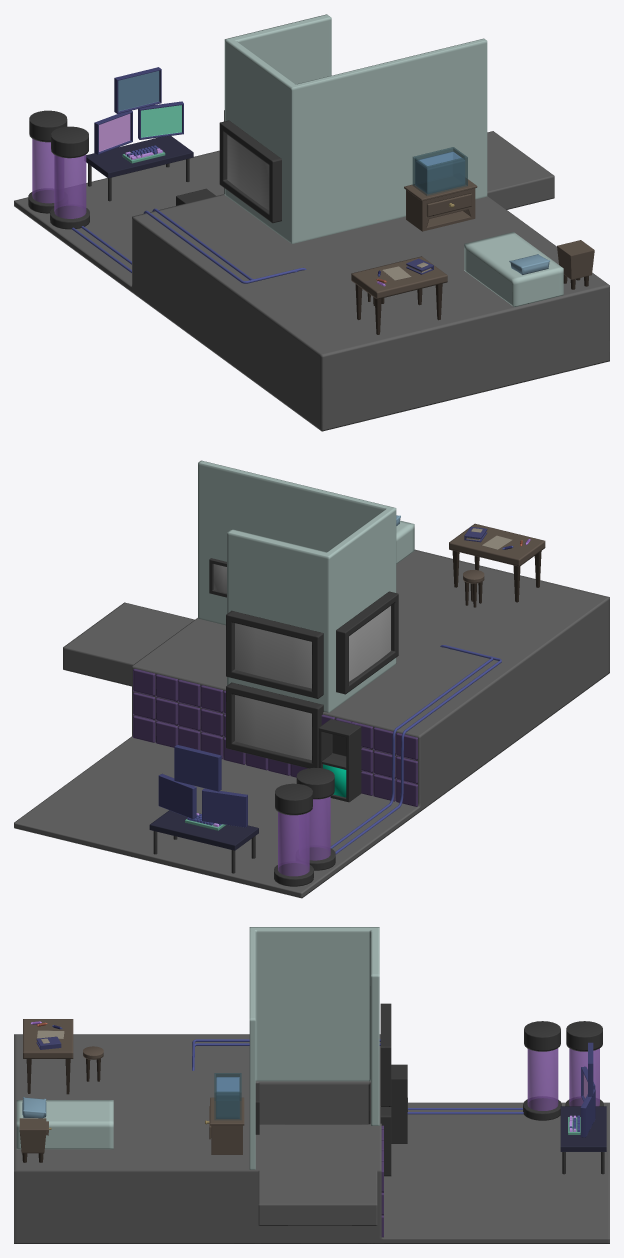
Rendered from Tutorial_Floor_Detailed_V3_Export2.fbx.
3 views of the same model, one above another, from view 1: azimuth 30°, elevation 25°; view 2: azimuth 150°, elevation 25°; view 3: azimuth 270°, elevation 25° (orthographic). The views are drawn at different scales.
Visible parts, largest first — view 1: pCube1, pCube120, pCube3, pCube19, pCube9, pCube26, pCube12, pCube5, pCylinder2, pCube24, pCube10, pCube15 (+11 smaller); view 2: pCube1, pCube120, pCube19, pCube22, pCube23, pCube7, pCube25, pCube11, pCube26, pCube5, pCube12, pCylinder1 (+11 smaller); view 3: pCube1, pCube120, pCube19, pCube3, pCylinder2, pCube12, pCube5, pCube9, pCube11, pCube7, pCylinder1, pCube10 (+10 smaller).
Part boxes in pixels (box(x1,y1,x2,y2)): pCube1: box(14, 150, 609, 431); pCube120: box(224, 14, 487, 243); pCube3: box(464, 232, 563, 307); pCube19: box(487, 131, 554, 209); pCube9: box(404, 178, 477, 231); pCube26: box(219, 120, 281, 223); pCube12: box(86, 136, 193, 178); pCube5: box(351, 256, 447, 299); pCylinder2: box(54, 154, 86, 218); pCube24: box(227, 135, 269, 210); pCube10: box(412, 147, 467, 195); pCube15: box(114, 67, 161, 113); pCube1: box(14, 549, 609, 898); pCube120: box(198, 460, 396, 712); pCube19: box(63, 602, 194, 686); pCube22: box(235, 623, 311, 688); pCube23: box(235, 695, 311, 759); pCube7: box(226, 610, 323, 698); pCube25: box(226, 682, 323, 768); pCube11: box(318, 719, 362, 802); pCube26: box(336, 591, 398, 694); pCube5: box(449, 523, 545, 566); pCube12: box(149, 810, 258, 850); pCylinder1: box(278, 812, 309, 876); pCube1: box(14, 1034, 609, 1243); pCube120: box(249, 927, 379, 1169); pCube19: box(258, 1170, 377, 1225); pCube3: box(16, 1100, 113, 1149); pCylinder2: box(527, 1048, 558, 1110); pCube12: box(560, 1106, 606, 1151); pCube5: box(23, 1019, 73, 1058); pCube9: box(209, 1097, 244, 1154); pCube11: box(391, 1064, 407, 1143); pCube7: box(380, 1003, 391, 1106); pCylinder1: box(569, 1048, 599, 1106); pCube10: box(214, 1073, 241, 1120).
Size of the model in its own units: 27.57 by 17.09 by 40.95.
